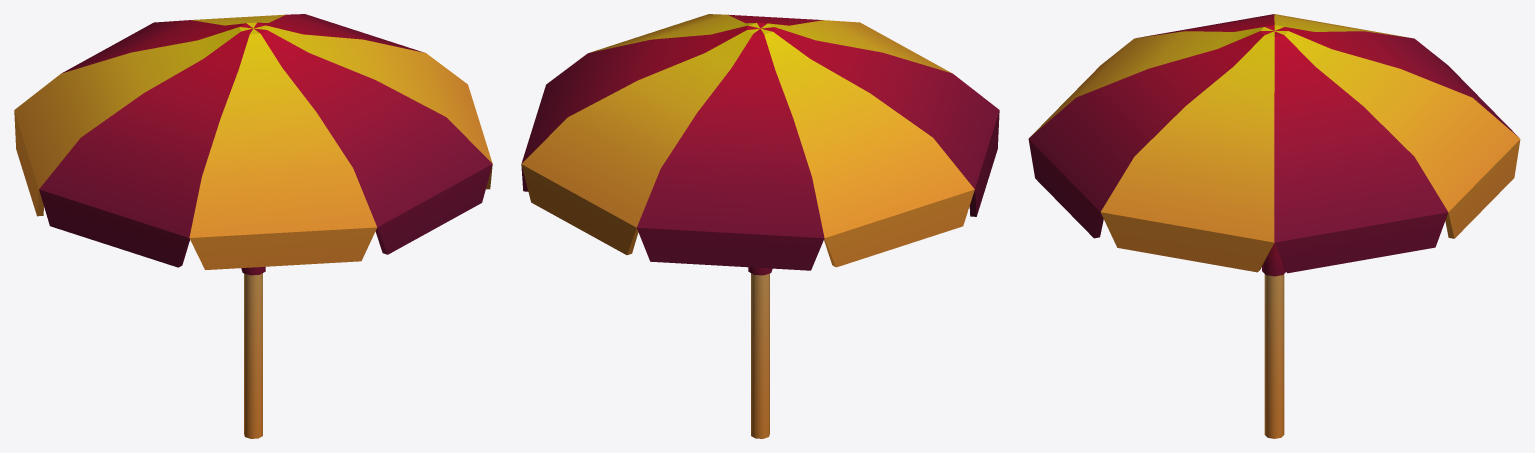
The model's file is ENV_Umbrella5.fbx.
3 views of the same model, side by side, from view 1: azimuth 30°, elevation 25°; view 2: azimuth 150°, elevation 25°; view 3: azimuth 270°, elevation 25° (orthographic).
Parts seen in each view (by area): view 1: ENV_Umbrella_5; view 2: ENV_Umbrella_5; view 3: ENV_Umbrella_5.
Part boxes in pixels (x1,y1,x2,y2): ENV_Umbrella_5: [14, 14, 492, 438]; ENV_Umbrella_5: [521, 14, 999, 438]; ENV_Umbrella_5: [1028, 14, 1520, 438].
Size of the model in its own units: 360 by 326 by 360.
